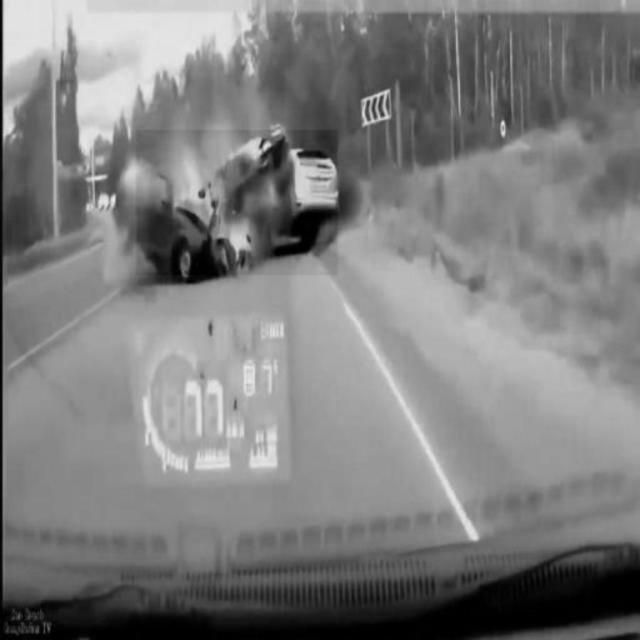accident: (137, 130, 338, 276)
